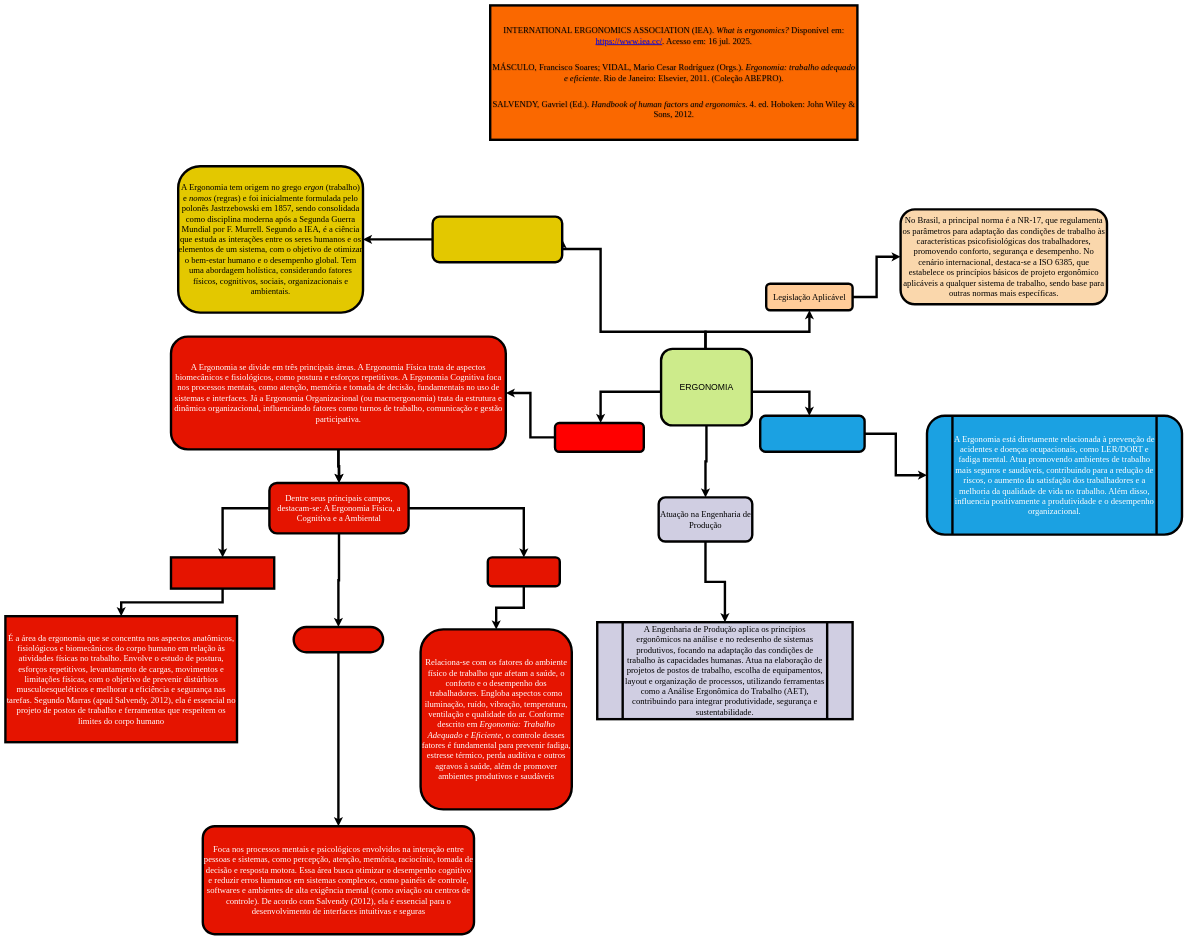
This 1187x939 diagram has some shape labels left out. Here are the shapes that lost their labels. From the top down, the centre of each, then its label:
At (497,239): "Histórico e Definições".
At (599,437): "Campos de Atuação".
At (812,433): "Relação com a Segurança e a Saúde no Trabalho".
At (222,573): "Ergonomia Biomecânica (ou Física)".
At (523,571): "Ergonomia Ambiental".
At (338,639): "Ergonomia Cognitiva".
